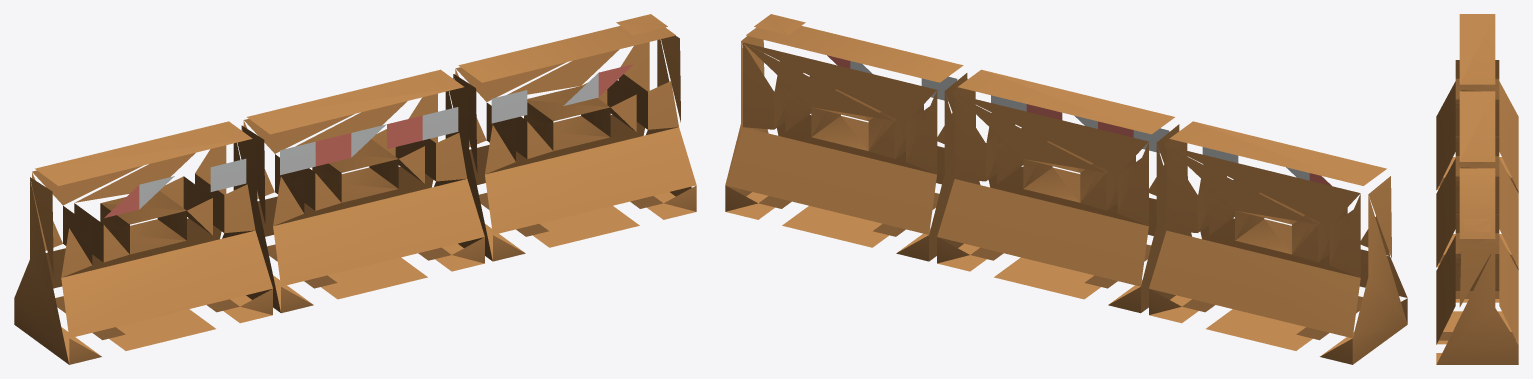
Rendered from waterbar.lod.glb.
3 views of the same model, side by side, from view 1: azimuth 30°, elevation 25°; view 2: azimuth 150°, elevation 25°; view 3: azimuth 270°, elevation 25° (orthographic). The views are drawn at different scales.
Visible parts, largest first — view 1: waterbar; view 2: waterbar; view 3: waterbar.
Part boxes in pixels (bbox=[...]): waterbar: bbox=[14, 14, 696, 364]; waterbar: bbox=[725, 14, 1407, 364]; waterbar: bbox=[1436, 14, 1518, 364].
Size of the model in its own units: 3.95 by 1.04 by 0.6.
